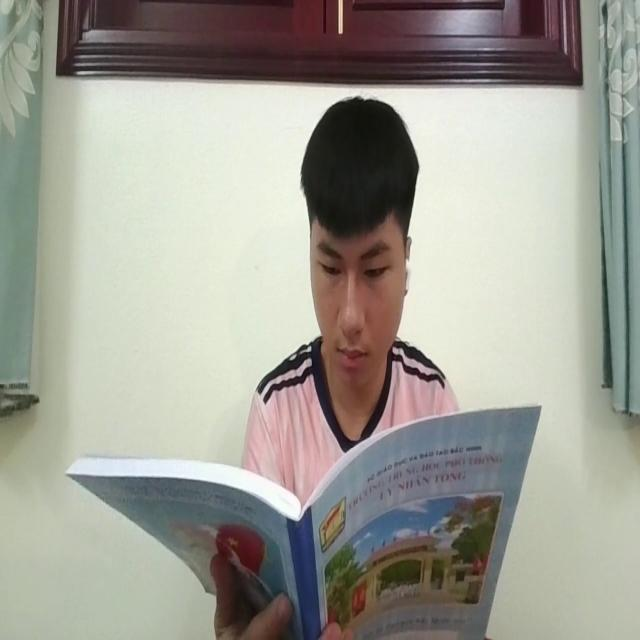book: (66, 400, 542, 640)
student: (236, 99, 469, 474)
